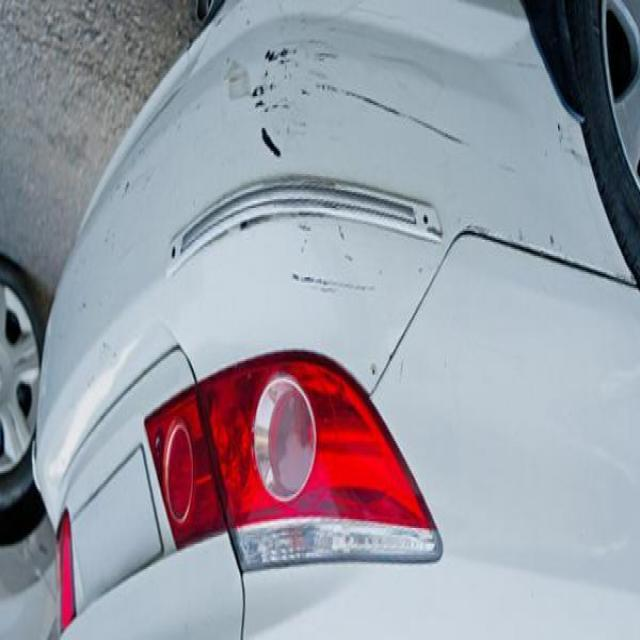scratch: (317, 66, 470, 156), (284, 258, 388, 306)
